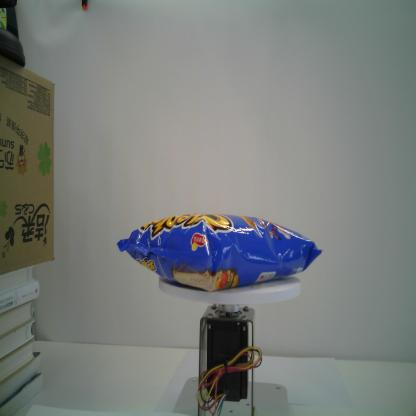Puffed Food: (116, 214, 324, 294)
